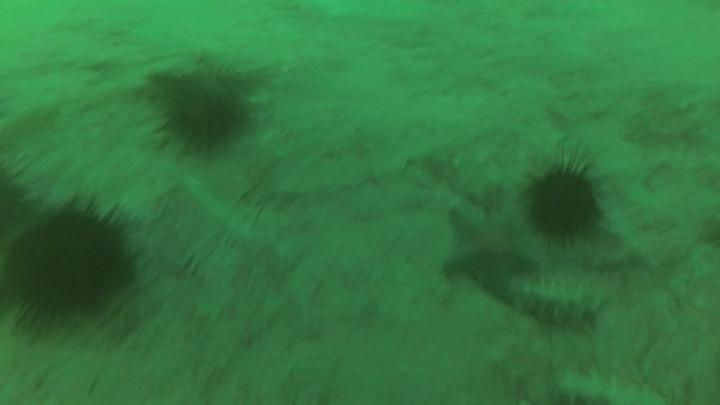holothurian: (500, 270, 615, 338)
scallop: (1, 190, 145, 339), (137, 56, 267, 165), (518, 146, 618, 253)
starfish: (438, 200, 546, 302)
